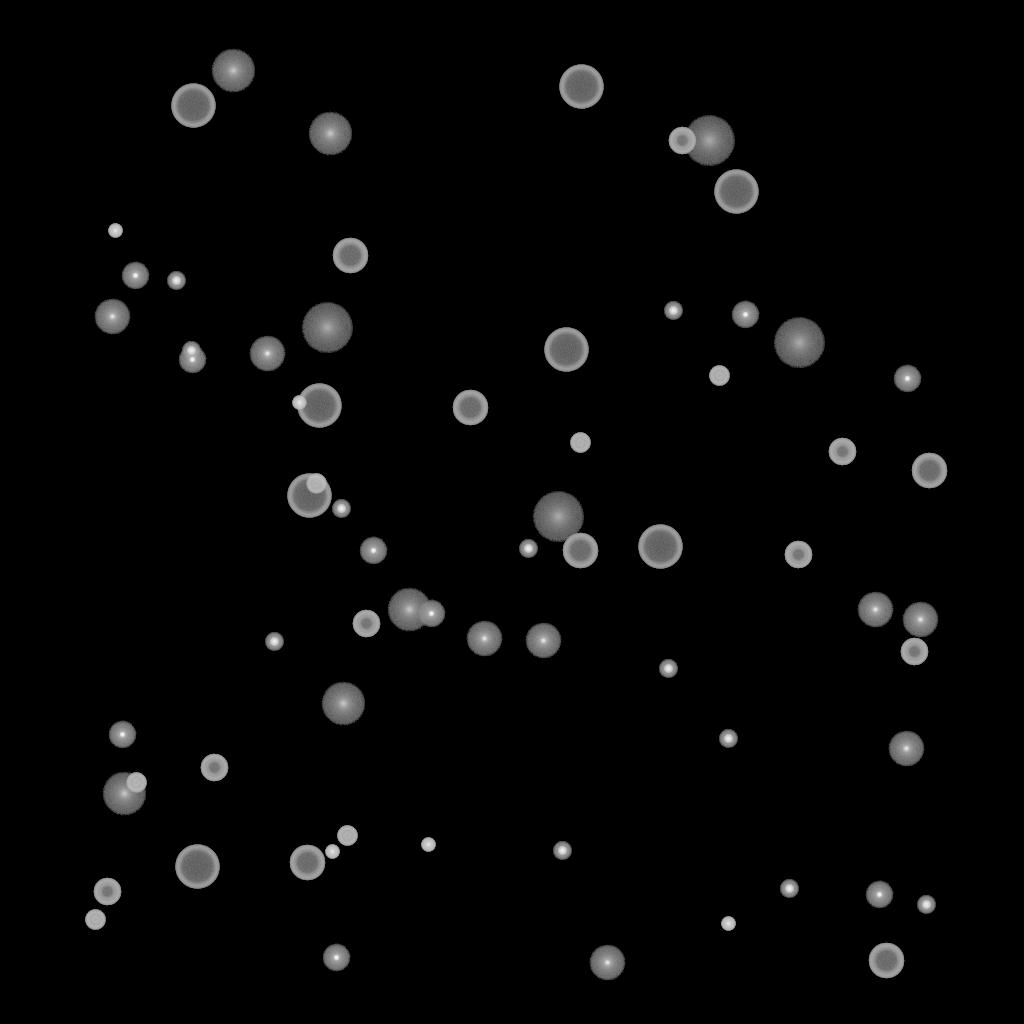depth:-10: (178, 346, 206, 374), (322, 944, 350, 972), (893, 365, 921, 393), (121, 262, 149, 290), (359, 537, 387, 565), (417, 600, 445, 628), (731, 301, 759, 329), (865, 881, 893, 909), (108, 721, 136, 749)
depth:-20: (719, 730, 737, 748), (182, 342, 200, 360), (553, 842, 571, 860), (659, 660, 677, 678), (664, 302, 682, 320), (265, 633, 283, 651), (332, 500, 350, 518), (780, 880, 798, 898), (519, 540, 537, 558), (917, 896, 935, 914), (167, 272, 185, 290)
depth:-30: (292, 396, 306, 410), (108, 224, 122, 238), (721, 917, 735, 931), (325, 845, 339, 859), (421, 838, 435, 852)
depth:-40: (337, 826, 357, 846), (709, 366, 729, 386), (570, 433, 590, 453), (126, 773, 146, 793), (85, 910, 105, 930), (306, 474, 326, 494)
depth:-50: (900, 638, 928, 666), (352, 610, 380, 638), (200, 754, 228, 782), (668, 127, 696, 155), (828, 438, 856, 466), (784, 541, 812, 569), (93, 878, 121, 906)
depth:-60: (452, 390, 488, 426), (289, 845, 325, 881), (562, 533, 598, 569), (911, 453, 947, 489), (868, 943, 904, 979), (332, 238, 368, 274)
depth:-70: (559, 65, 603, 109), (297, 384, 341, 428), (714, 170, 758, 214), (544, 328, 588, 372), (171, 84, 215, 128), (175, 845, 219, 889), (287, 474, 331, 518), (638, 525, 682, 569)
depth:0: (857, 592, 893, 628), (902, 602, 938, 638), (249, 336, 285, 372), (466, 621, 502, 657), (94, 299, 130, 335), (525, 623, 561, 659), (888, 731, 924, 767), (589, 945, 625, 981)
depth:10: (321, 682, 365, 726), (102, 772, 146, 816), (387, 588, 431, 632), (211, 49, 255, 93), (308, 112, 352, 156)
depth:20: (773, 318, 825, 368), (301, 303, 353, 353), (532, 492, 584, 542), (683, 116, 735, 166)
